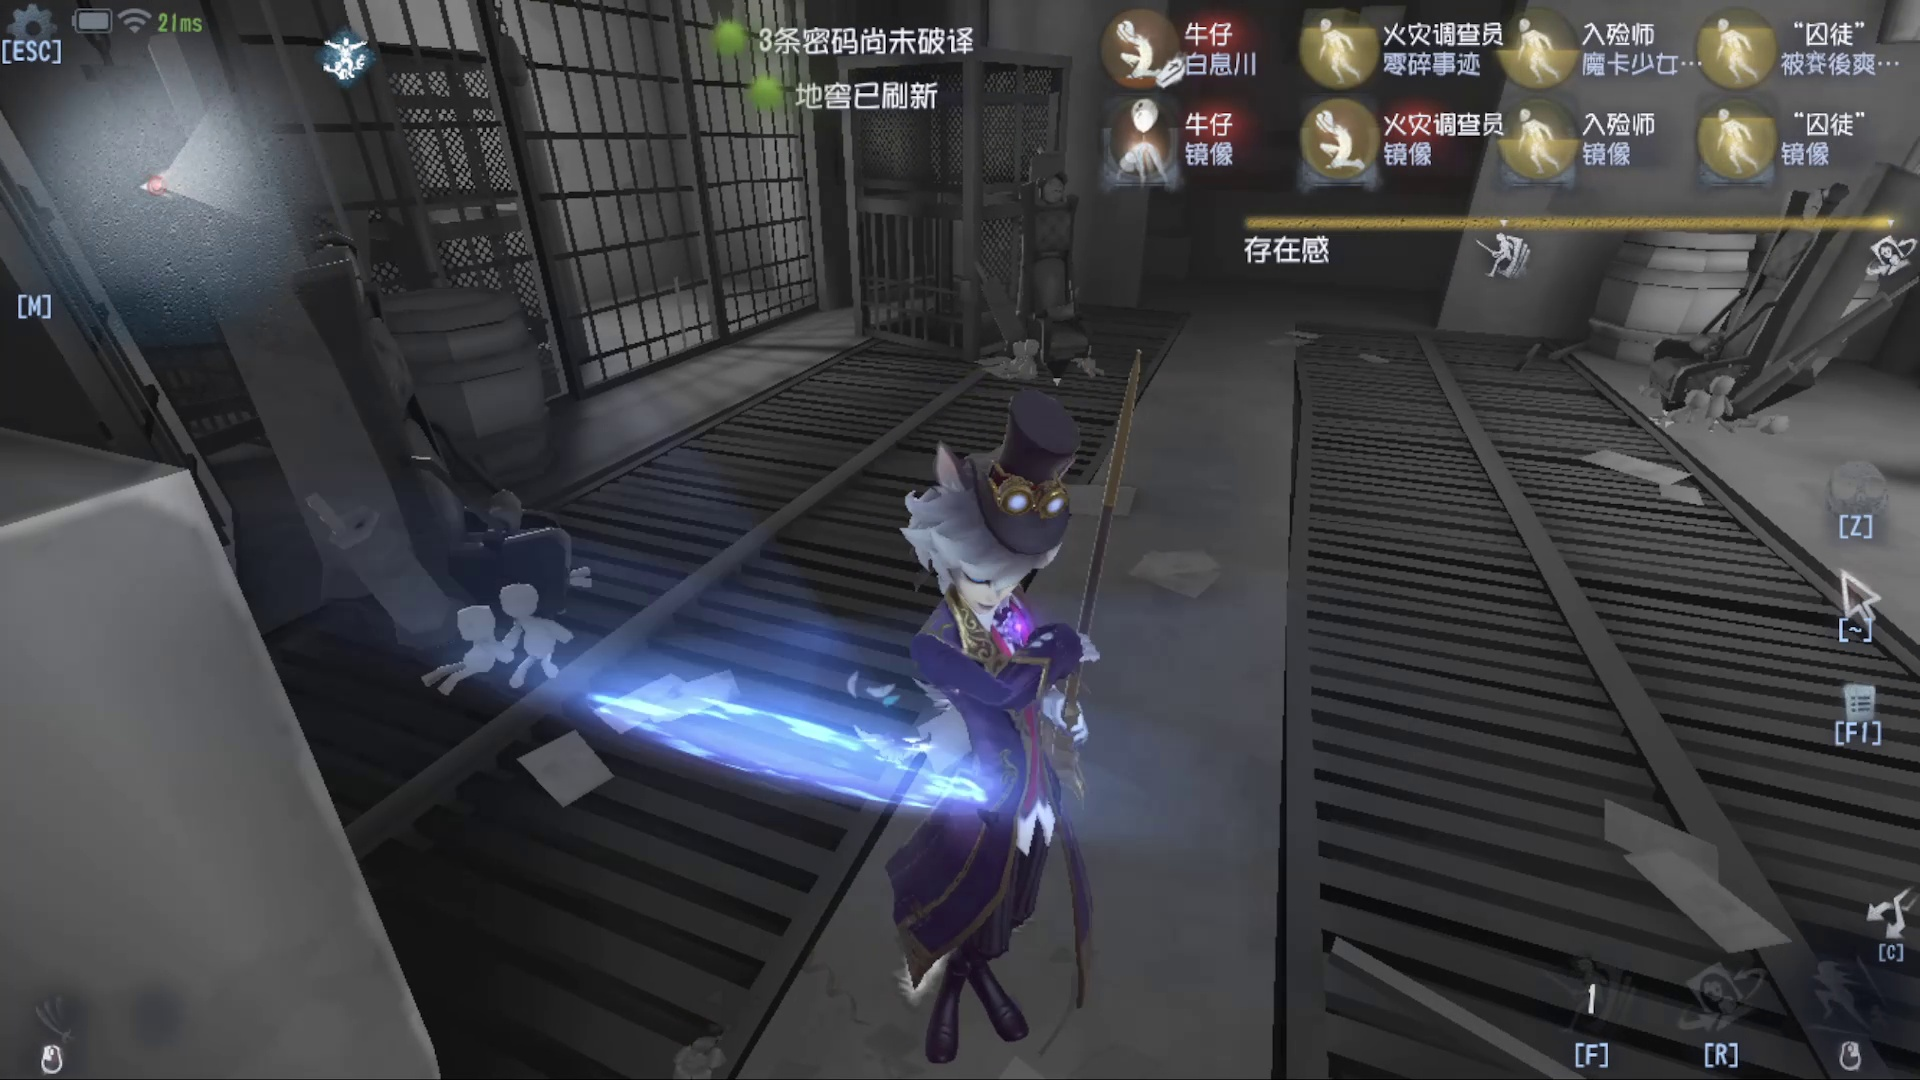狂欢之椅: (258, 191, 615, 704), (986, 132, 1102, 406)
